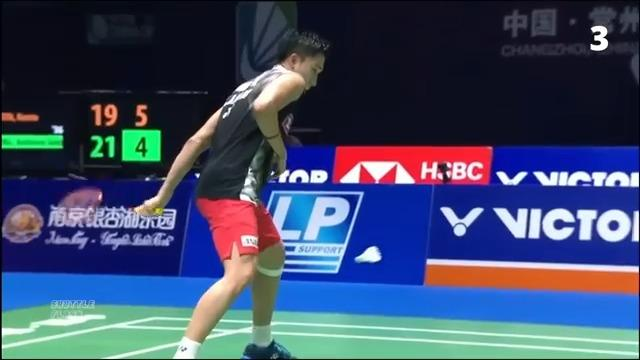Shuttlecock: (350, 240, 384, 270)
